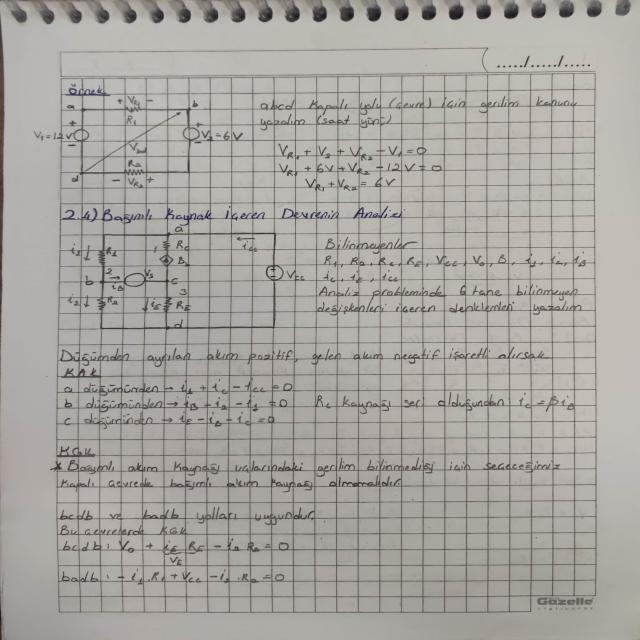image: (64, 225, 309, 332), (30, 95, 250, 192)
math: (316, 253, 594, 283), (274, 144, 447, 192), (58, 536, 297, 567), (172, 377, 298, 428), (59, 568, 289, 589)
text: (56, 458, 561, 490), (251, 97, 584, 127), (315, 284, 588, 316), (59, 508, 315, 538), (61, 204, 409, 224), (61, 347, 548, 361), (312, 393, 580, 415), (60, 381, 165, 430), (315, 235, 419, 253), (65, 82, 114, 98)
